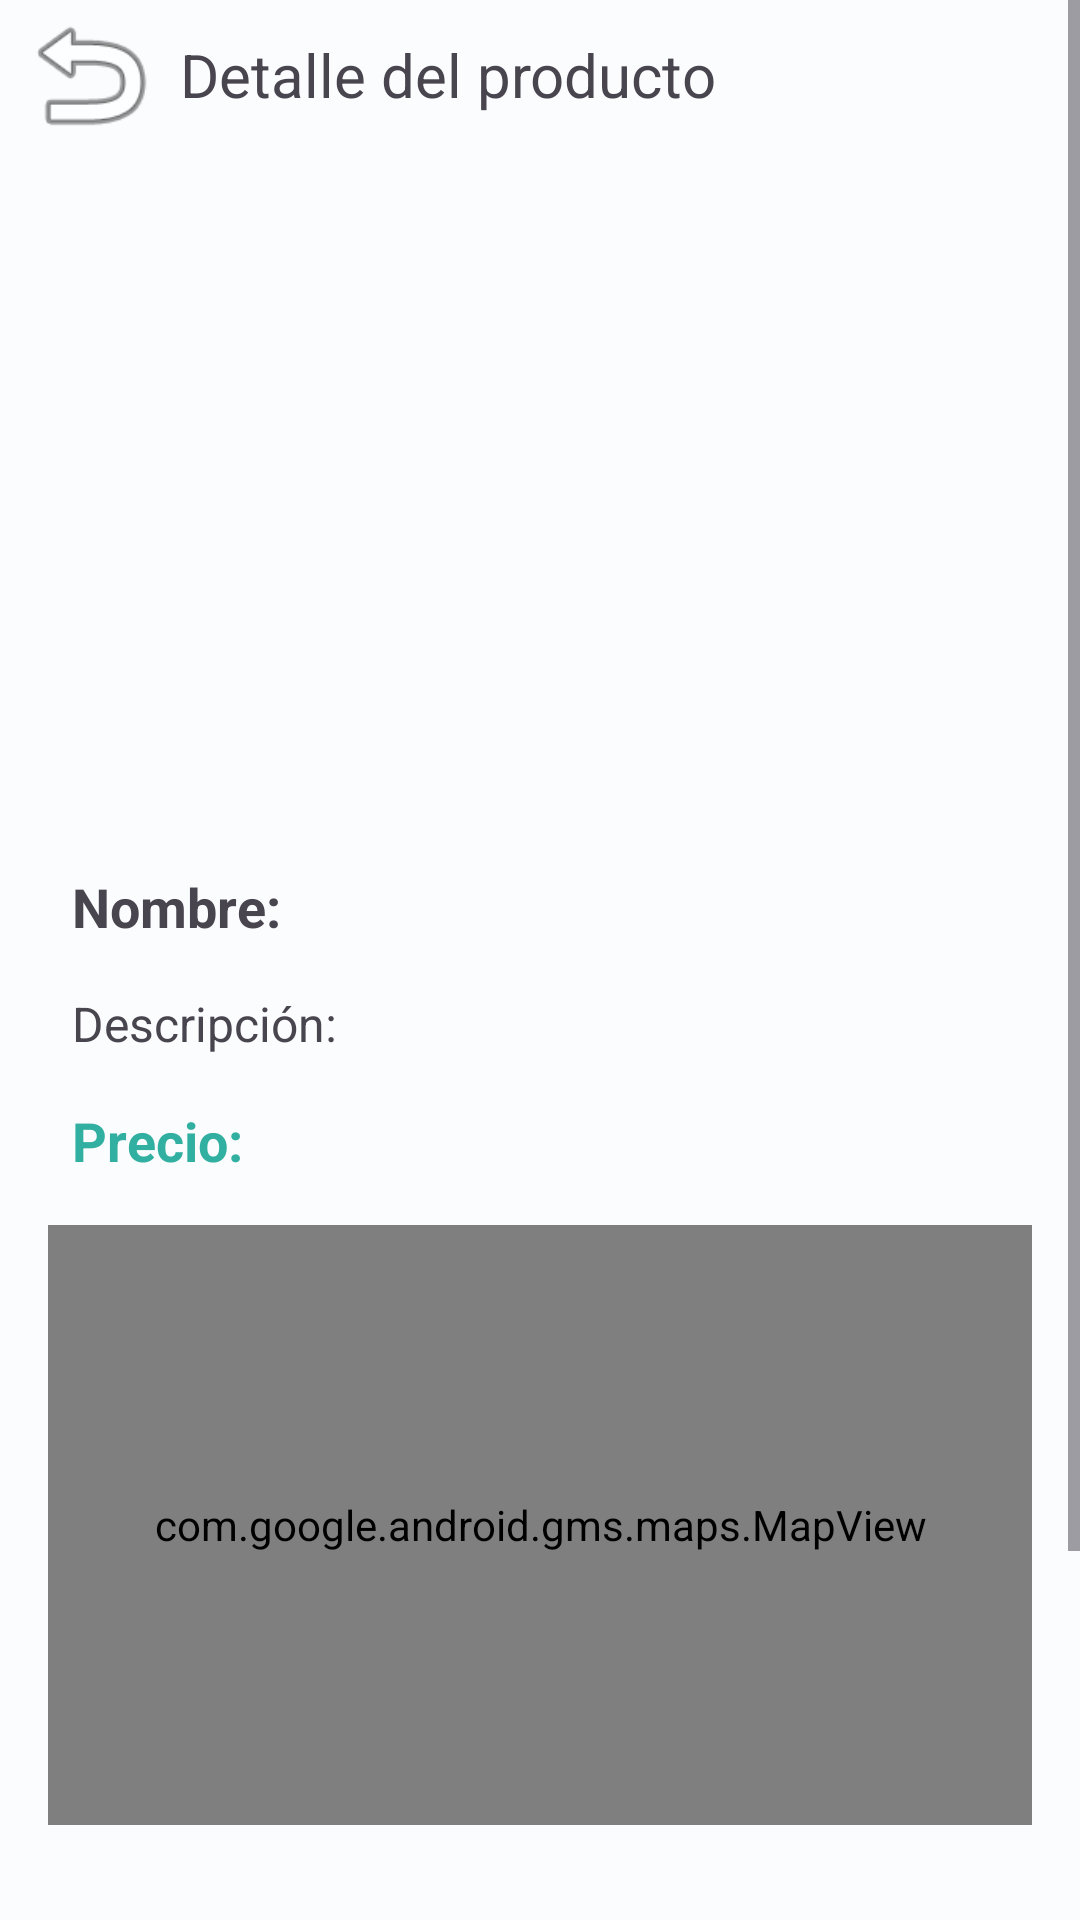

Named icons in this screenshot (1080×1920) and their bounding boxes, (x1, y1, x2, y2):
revert: (38, 27, 146, 125)
